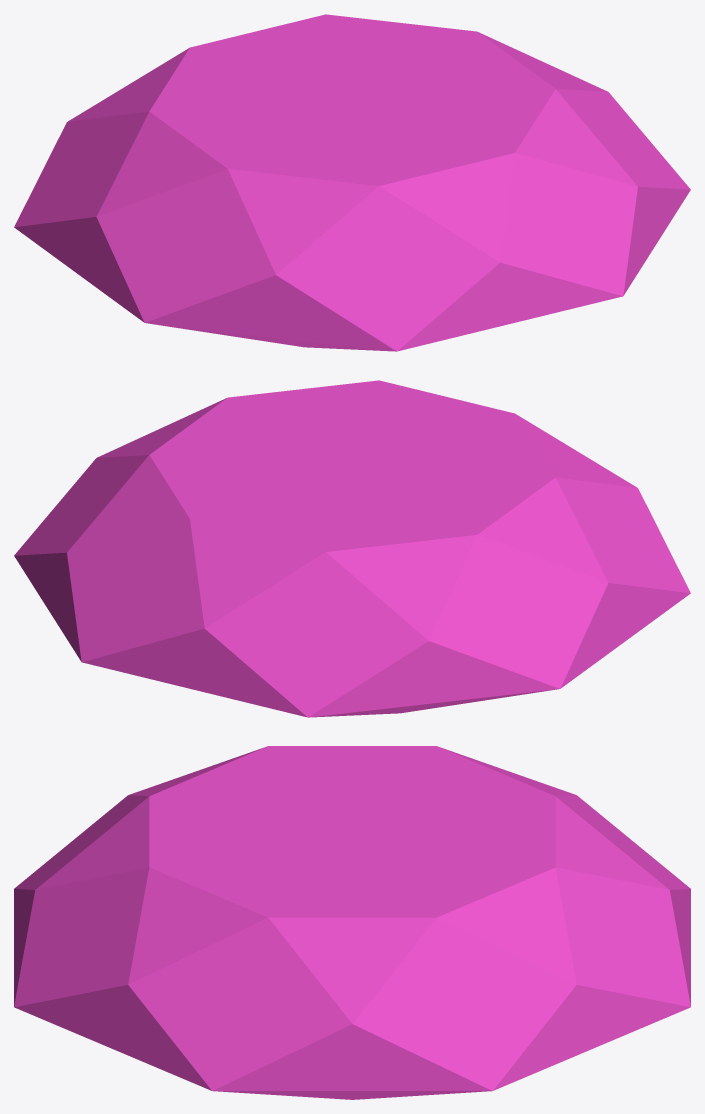
Rendered from tourmaline.glb.
3 renders of one model, top to bottom at view 1: azimuth 30°, elevation 25°; view 2: azimuth 150°, elevation 25°; view 3: azimuth 270°, elevation 25°, orthographic. The views are drawn at different scales.
Visible parts, largest first — view 1: Gem.001; view 2: Gem.001; view 3: Gem.001.
Boxes of the visible parts, x1,y1,x2,y2 form: Gem.001: (14, 14, 690, 351); Gem.001: (14, 380, 690, 717); Gem.001: (14, 746, 690, 1099).
Size of the model in its own units: 1.85 by 0.76 by 1.85.
